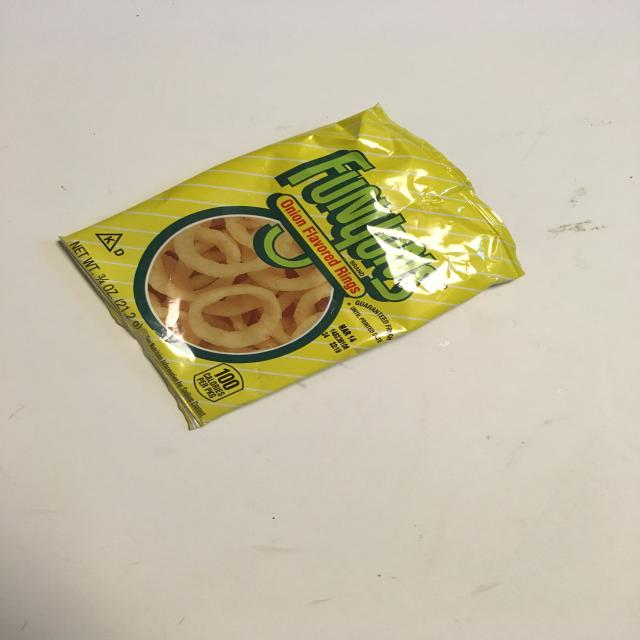trash: (57, 102, 525, 431)
